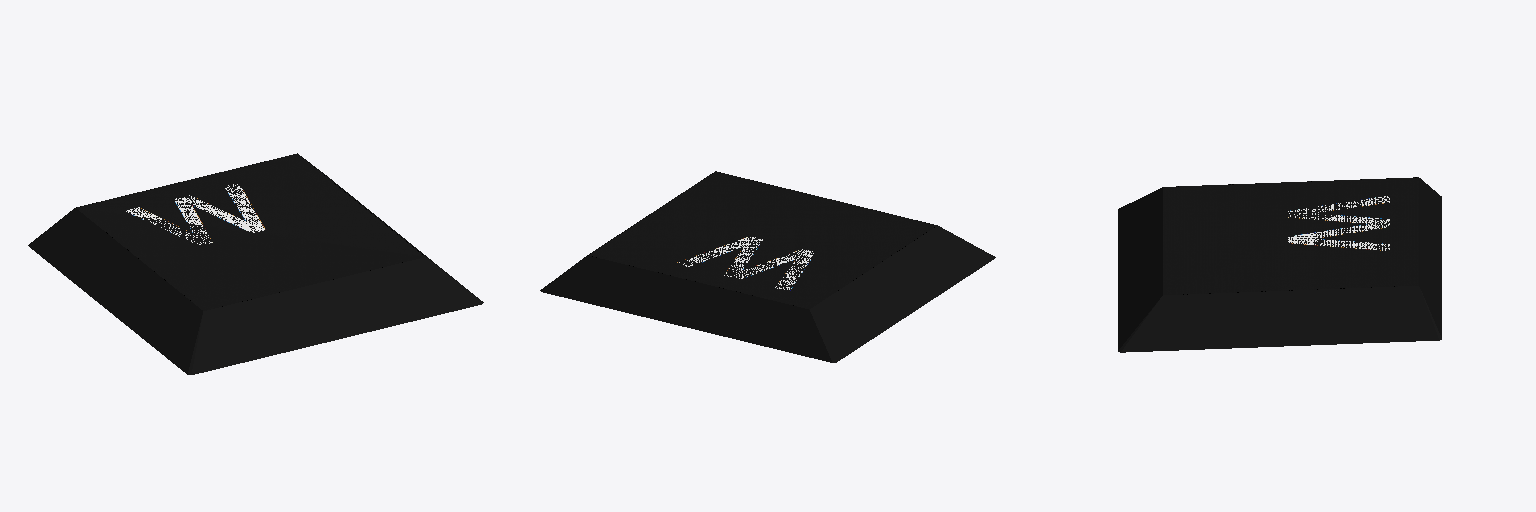
The picture shows the model from 3 angles: view 1: azimuth 30°, elevation 25°; view 2: azimuth 150°, elevation 25°; view 3: azimuth 270°, elevation 25°; orthographic projection.
Visible parts, largest first — view 1: Group26/mesh24/mesh24-geometry#mesh24-geometry; view 2: Group26/mesh24/mesh24-geometry#mesh24-geometry; view 3: Group26/mesh24/mesh24-geometry#mesh24-geometry.
Part boxes in pixels (x1,y1,x2,y2): Group26/mesh24/mesh24-geometry#mesh24-geometry: (28, 153, 483, 374); Group26/mesh24/mesh24-geometry#mesh24-geometry: (540, 171, 995, 362); Group26/mesh24/mesh24-geometry#mesh24-geometry: (1118, 177, 1441, 352).
Size of the model in its own units: 0.0754 by 0.0119 by 0.0715.
2 materials, 1 textured.